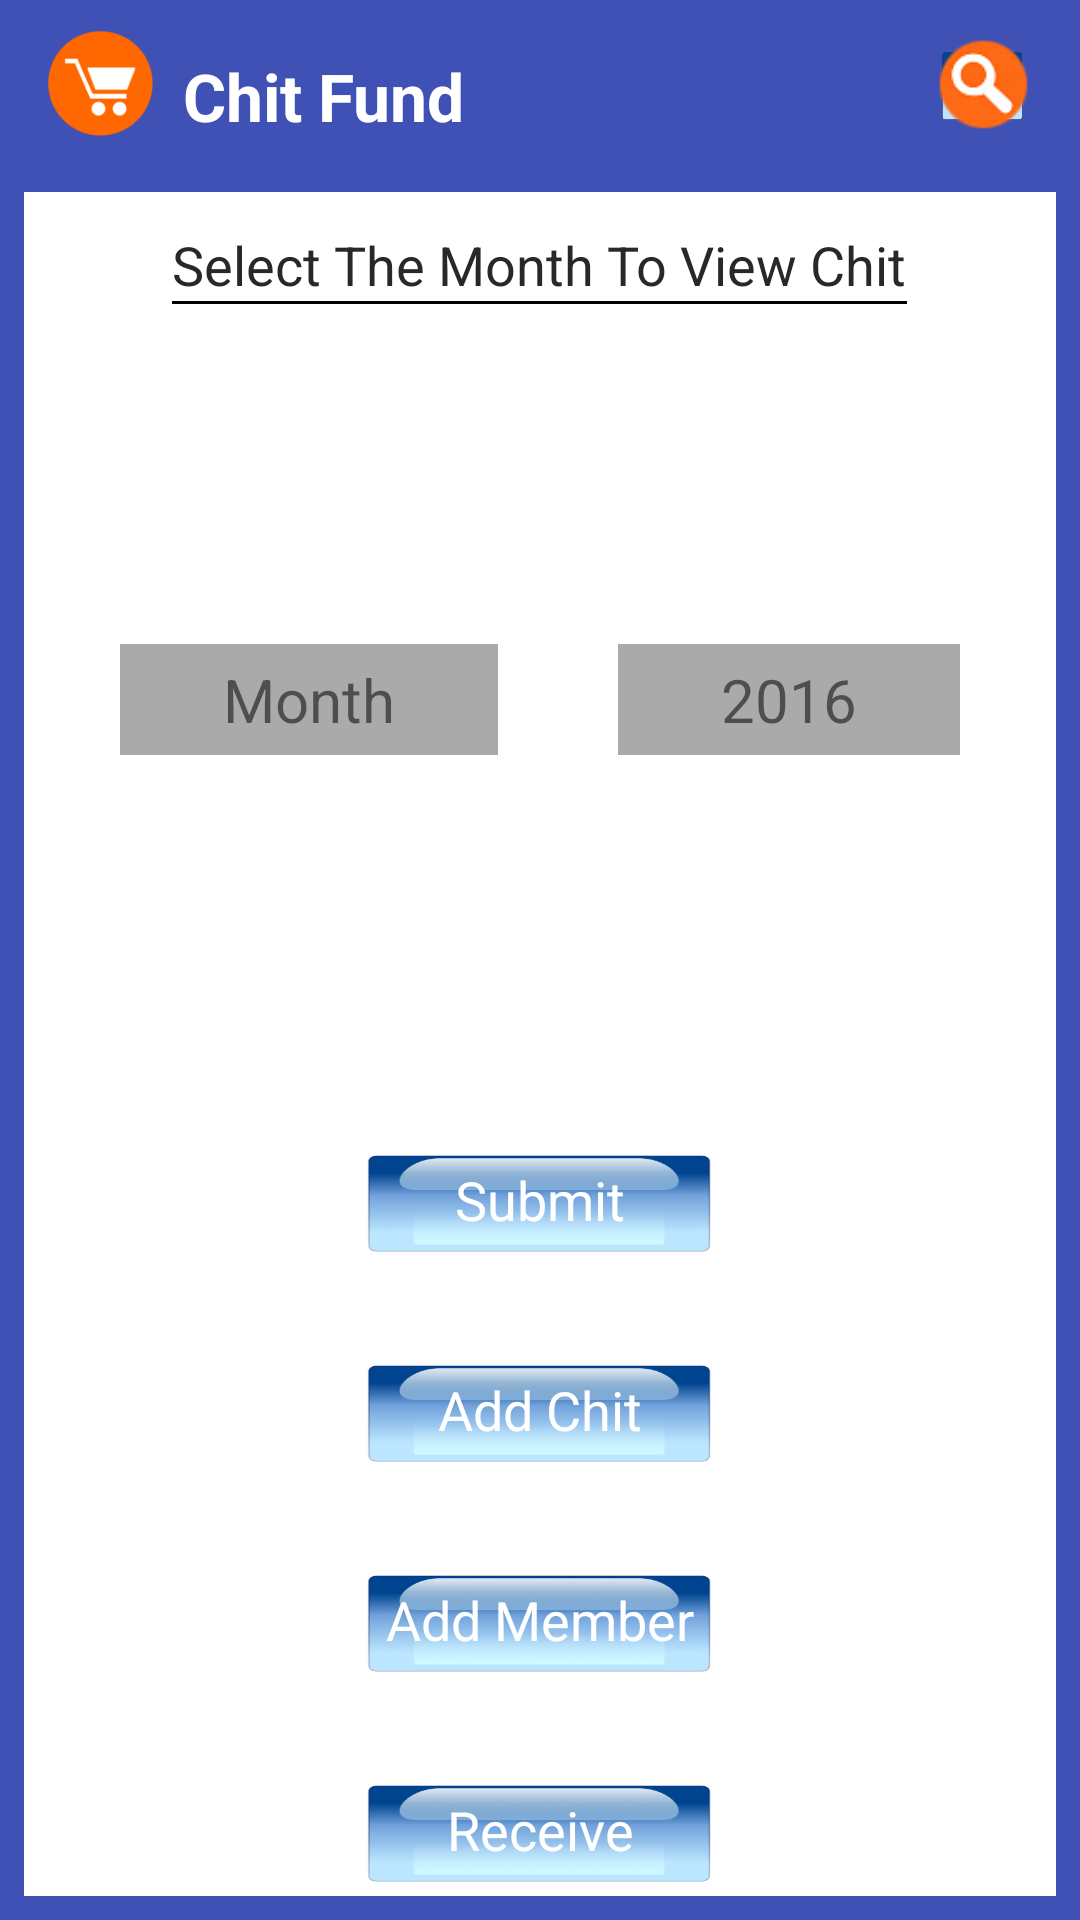

Named icons in this screenshot (1080w x 1920h) and their centers, [x,y]:
search: [983,84]
